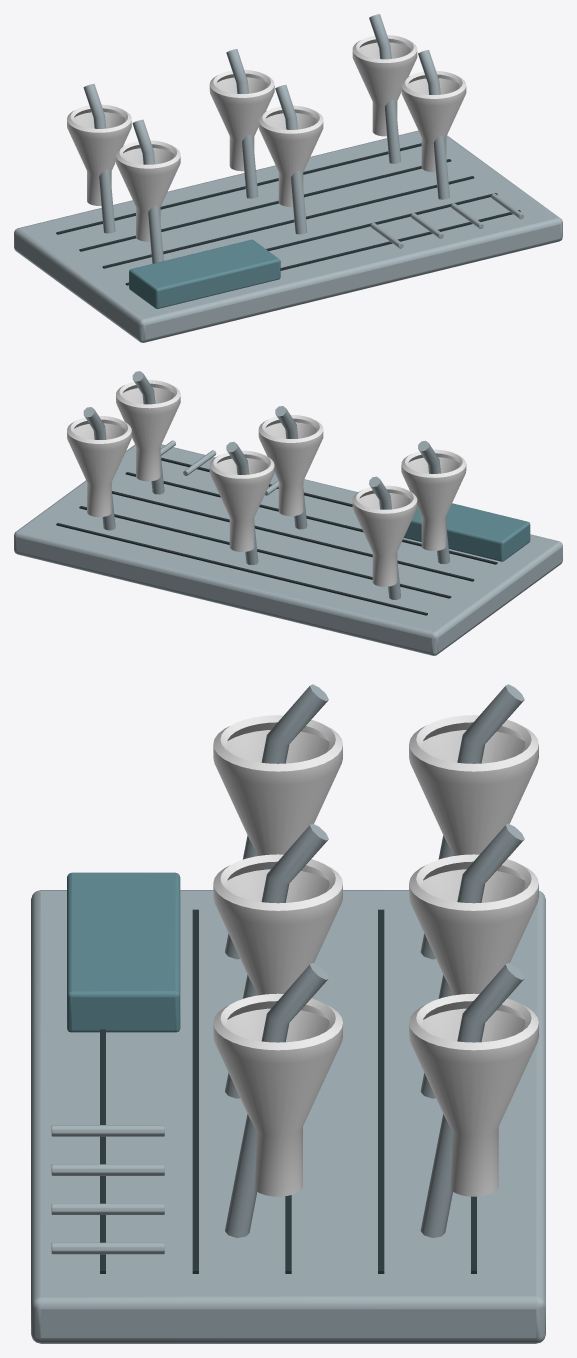
File: ID_GlasswareDryingRack.fbx
3 views of the same model, one above another, from view 1: azimuth 30°, elevation 25°; view 2: azimuth 150°, elevation 25°; view 3: azimuth 270°, elevation 25° (orthographic). The views are drawn at different scales.
Visible parts, largest first — view 1: ID_GlasswareDryingRack; view 2: ID_GlasswareDryingRack; view 3: ID_GlasswareDryingRack.
Part boxes in pixels (<box>): ID_GlasswareDryingRack: <box>14,14,562,342</box>; ID_GlasswareDryingRack: <box>14,371,562,655</box>; ID_GlasswareDryingRack: <box>31,684,545,1343</box>.
Size of the model in its own units: 95 by 33.75 by 50.
